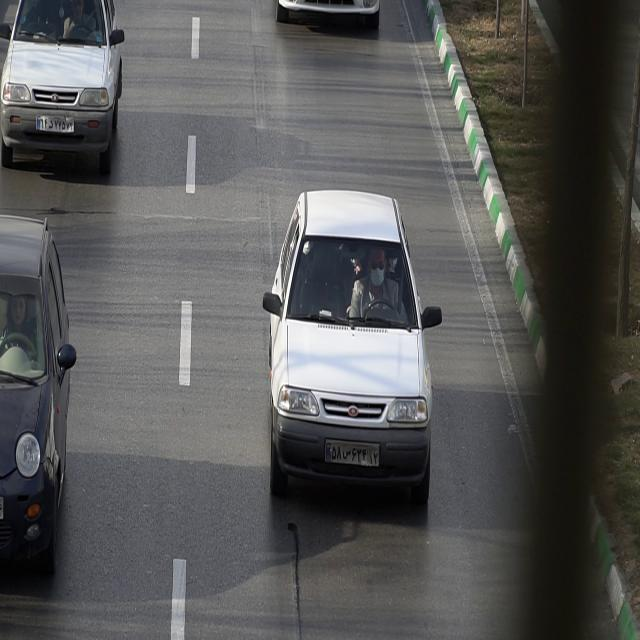car: (260, 191, 442, 496), (0, 214, 77, 572), (1, 0, 124, 167)
